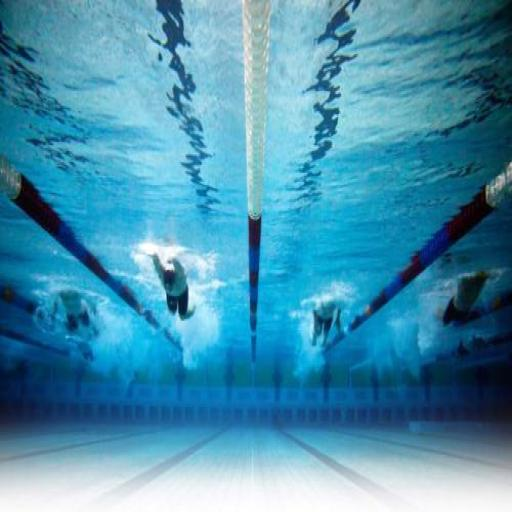swimming: (437, 264, 511, 330), (146, 247, 198, 324), (306, 296, 344, 352)
